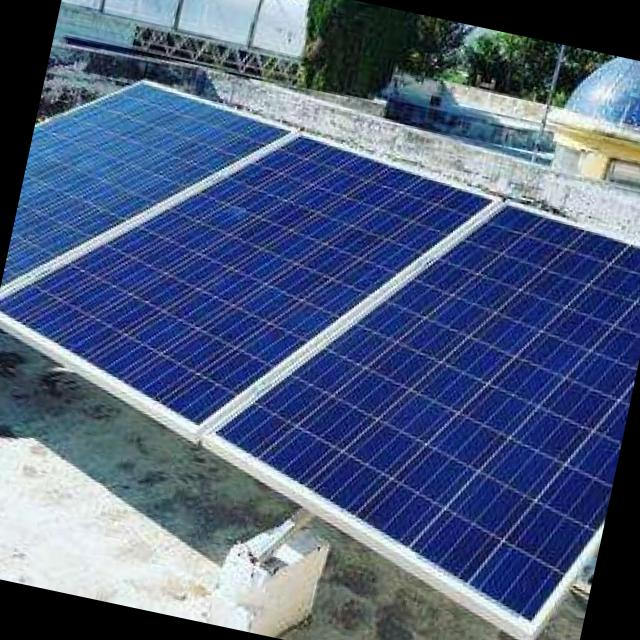no faulty: (228, 202, 640, 625), (0, 132, 479, 421), (6, 83, 258, 274)
